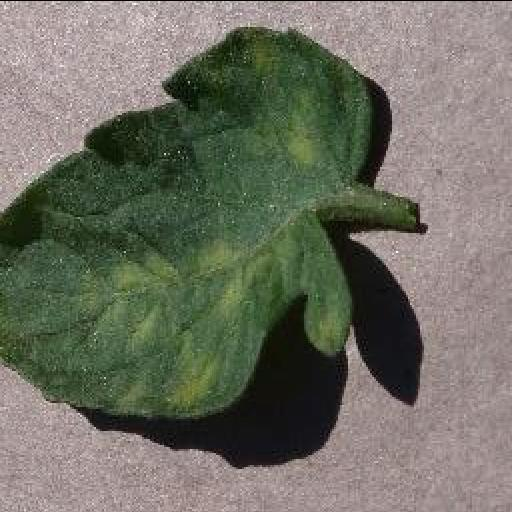disease_tomato: (0, 26, 366, 418)
